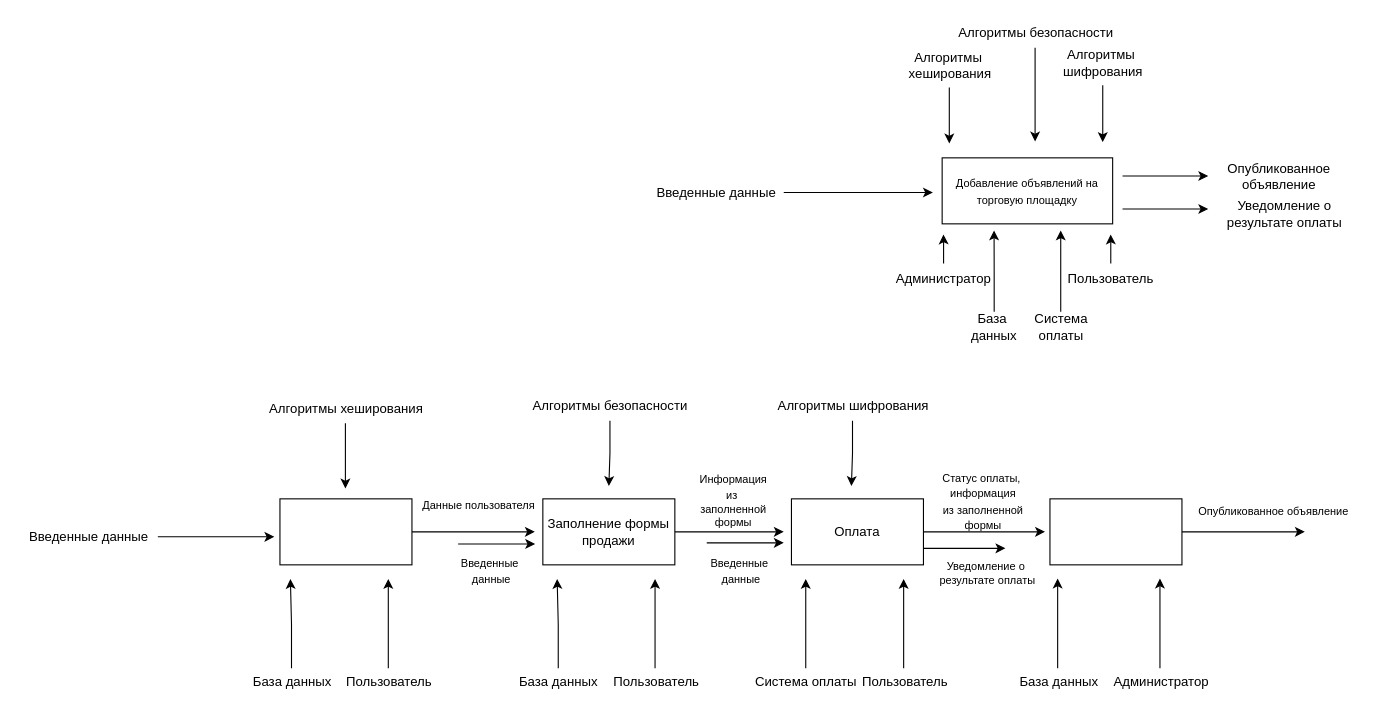
This 1376x715 diagram has some shape labels left out. The centre of each missing label's shape, as x and y in pixels:
Авторизация: pixel 345 531
Модерация и публикация объявления: pixel 1115 531
